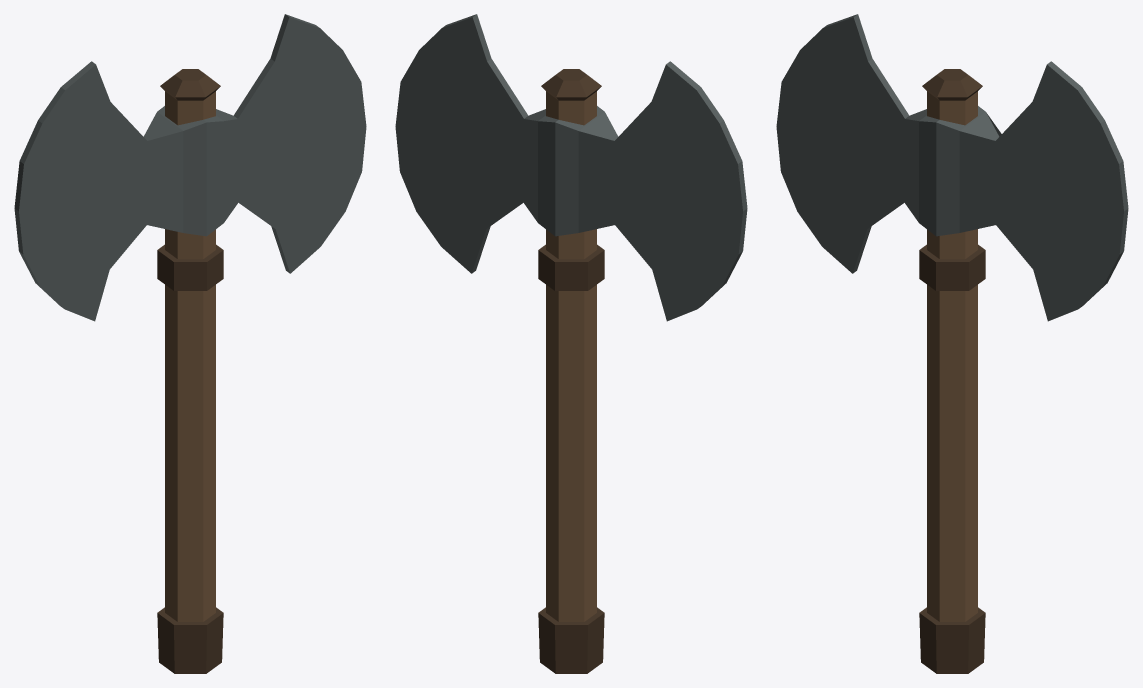
Rendered from Axe_4_Brown.fbx.
3 views of the same model, side by side, from view 1: azimuth 30°, elevation 25°; view 2: azimuth 150°, elevation 25°; view 3: azimuth 330°, elevation 25° (orthographic).
Parts seen in each view (by area): view 1: Axe_4_Brown_Part_1, Axe_4_Brown_Part_2, Axe_4_Brown_Part_3; view 2: Axe_4_Brown_Part_1, Axe_4_Brown_Part_2, Axe_4_Brown_Part_3; view 3: Axe_4_Brown_Part_1, Axe_4_Brown_Part_2, Axe_4_Brown_Part_3.
Part boxes in pixels (box(x1,y1,x2,y2)): Axe_4_Brown_Part_1: box(14, 14, 366, 321); Axe_4_Brown_Part_2: box(165, 91, 215, 621); Axe_4_Brown_Part_3: box(157, 69, 223, 673); Axe_4_Brown_Part_1: box(395, 14, 747, 321); Axe_4_Brown_Part_2: box(546, 91, 596, 621); Axe_4_Brown_Part_3: box(538, 69, 604, 673); Axe_4_Brown_Part_1: box(776, 14, 1128, 321); Axe_4_Brown_Part_2: box(927, 91, 977, 621); Axe_4_Brown_Part_3: box(919, 69, 985, 673).
Size of the model in its own units: 88.25 by 151 by 14.58.
